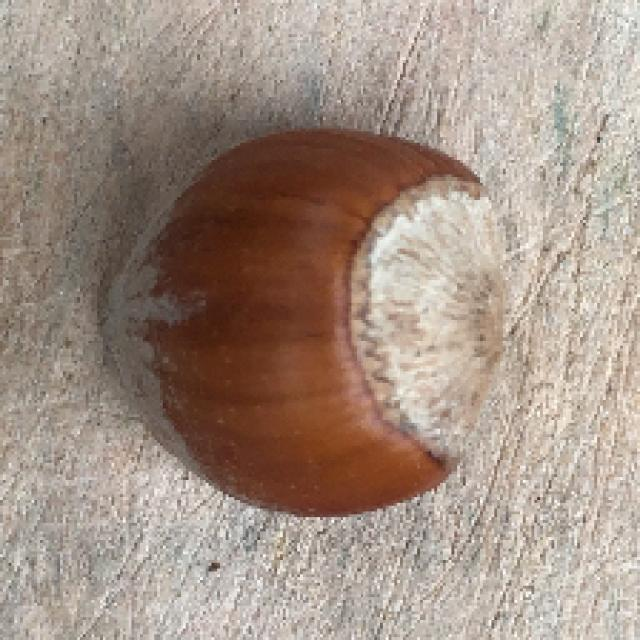QualityHazelnut: (103, 123, 512, 525)
